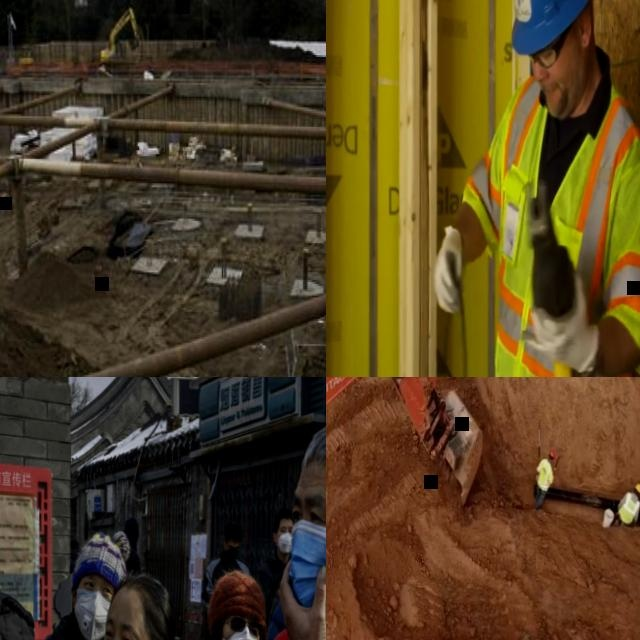Hardhat: (508, 0, 605, 54), (634, 483, 640, 494), (548, 450, 554, 458)
Mask: (285, 519, 326, 623), (71, 587, 109, 640), (221, 627, 258, 640), (277, 533, 293, 556), (225, 548, 238, 564)
NO-Hardhat: (107, 574, 174, 633), (206, 570, 266, 624), (72, 529, 128, 582), (300, 408, 326, 506), (224, 519, 244, 540), (274, 505, 292, 522), (124, 515, 140, 532), (68, 539, 78, 551)
NO-Mask: (545, 77, 582, 118)
NO-Safety Vest: (263, 567, 287, 610), (68, 551, 78, 571), (129, 549, 138, 570)
Person: (427, 0, 640, 377), (23, 529, 129, 640), (534, 449, 556, 510), (121, 519, 143, 577), (613, 483, 640, 527), (69, 535, 79, 571)
Safety Vest: (457, 68, 640, 377), (537, 459, 551, 490), (622, 492, 638, 518)
machinery: (326, 377, 488, 640), (100, 6, 142, 67), (17, 44, 33, 67)
